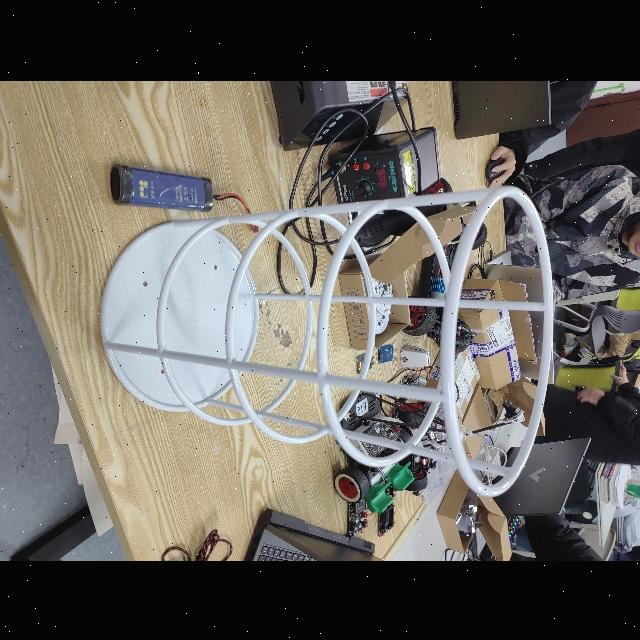S: (86, 178, 556, 502)
